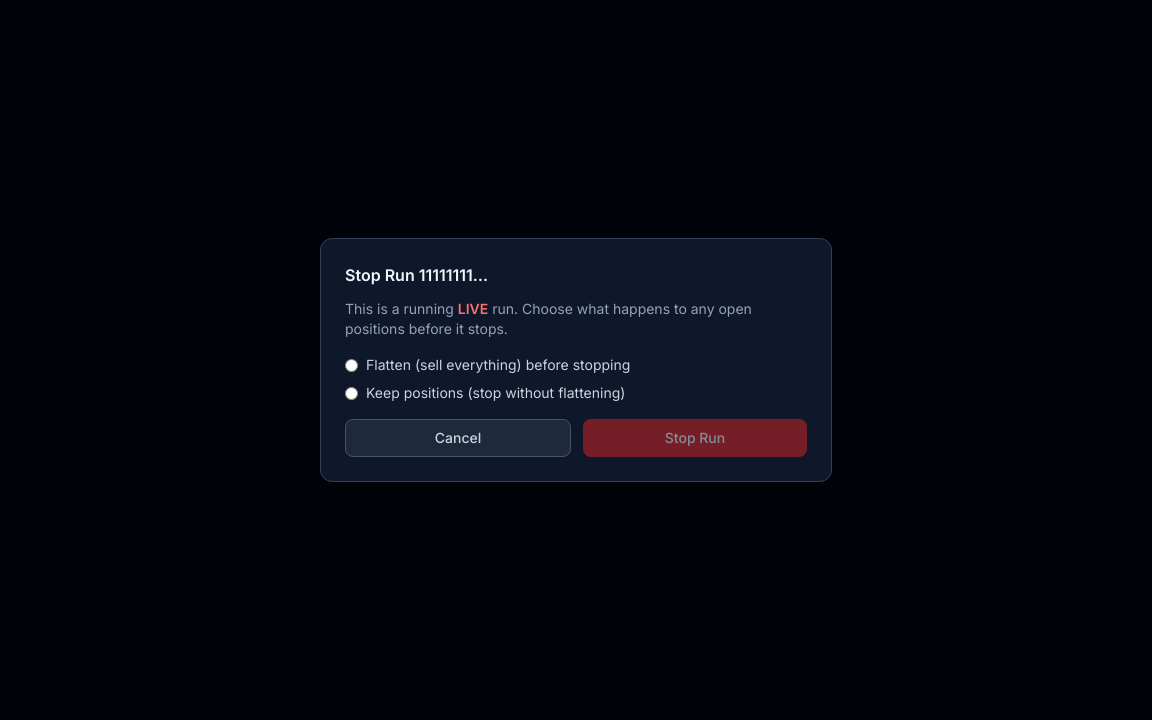
StopRunDialog — live running run requires an explicit flatten choice › renders the 409 flatten_incomplete result (real FastAPI envelope) and offers retry / stop-without-flatten
Click the radio button labelled "Flatten (sell everything) before stopping": click(352, 365) [345, 358, 358, 372]
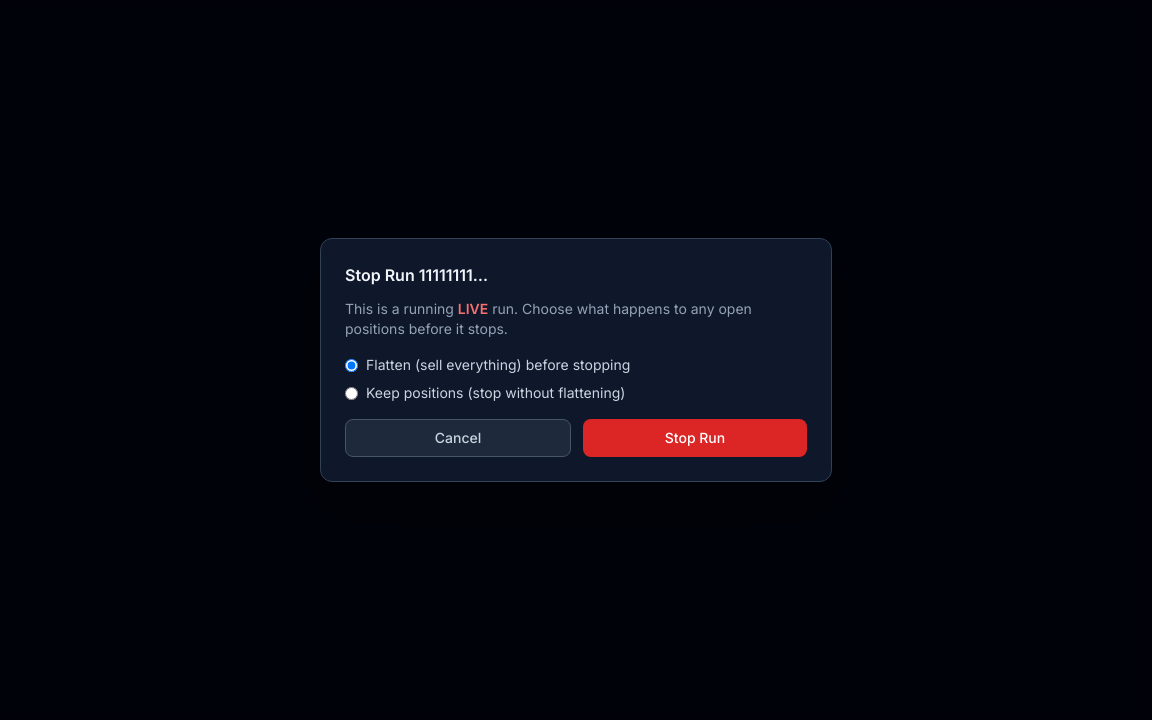
Click the button "Stop Run": click(695, 438) [583, 419, 807, 457]
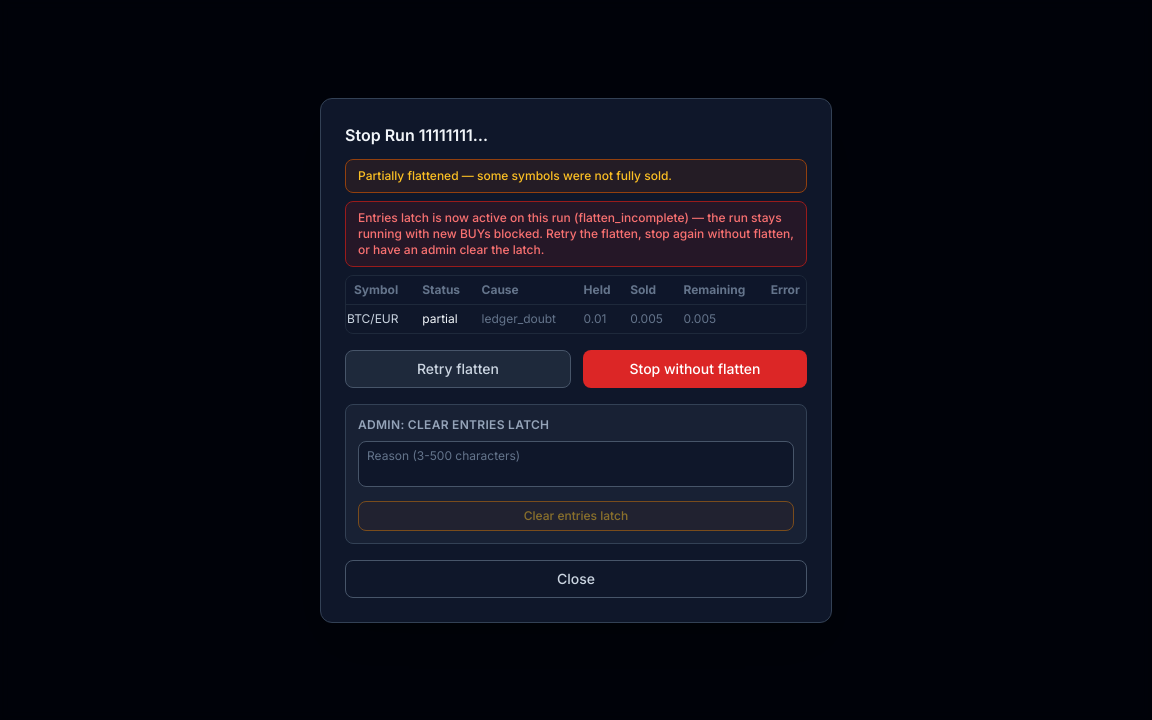
Expected: the text "Partially flattened — some symbols were not fully sold." is shown, [345, 158, 807, 192]
Expected: the button "Retry flatten" is shown, [345, 350, 571, 388]
Expected: the button "Stop without flatten" is shown, [583, 350, 807, 388]
